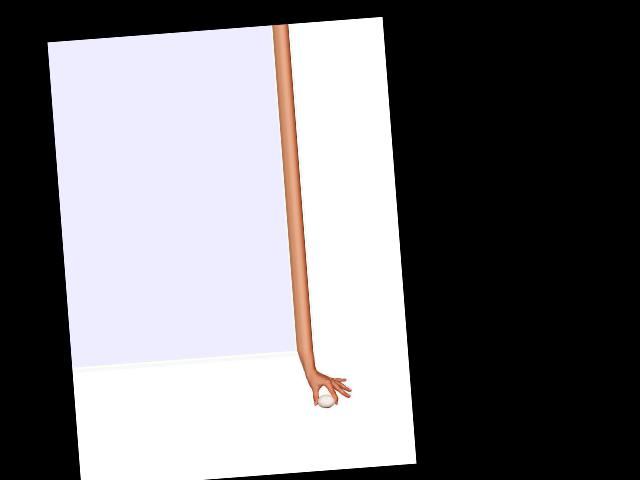egg: (316, 394, 335, 409)
